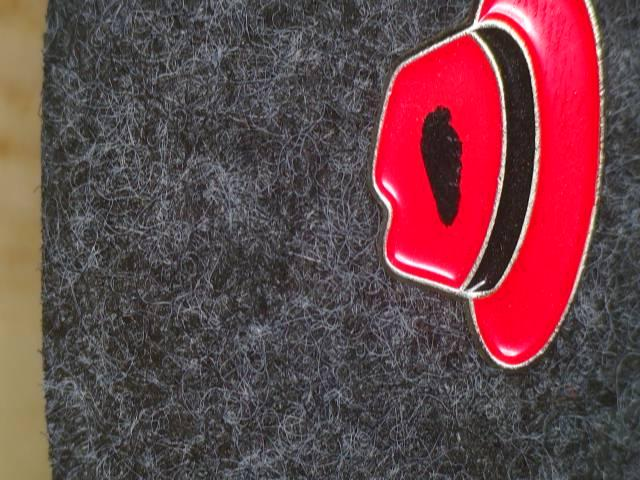Red-Hat: (337, 0, 632, 400)
Scratch: (408, 94, 490, 245)
